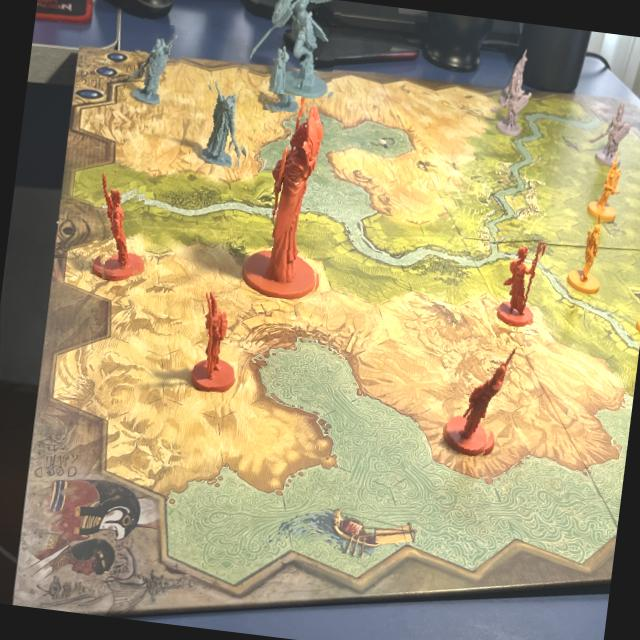amon: (240, 82, 346, 304)
amon_follower: (442, 331, 512, 460), (83, 165, 154, 282), (183, 280, 247, 394), (480, 229, 550, 329)
isis: (245, 0, 341, 99)
isis_follower: (193, 76, 258, 170), (125, 18, 185, 107), (258, 40, 305, 115)
